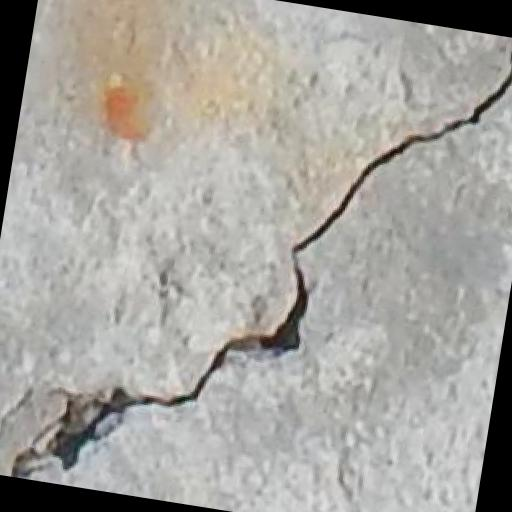spalling: (2, 41, 512, 476)
